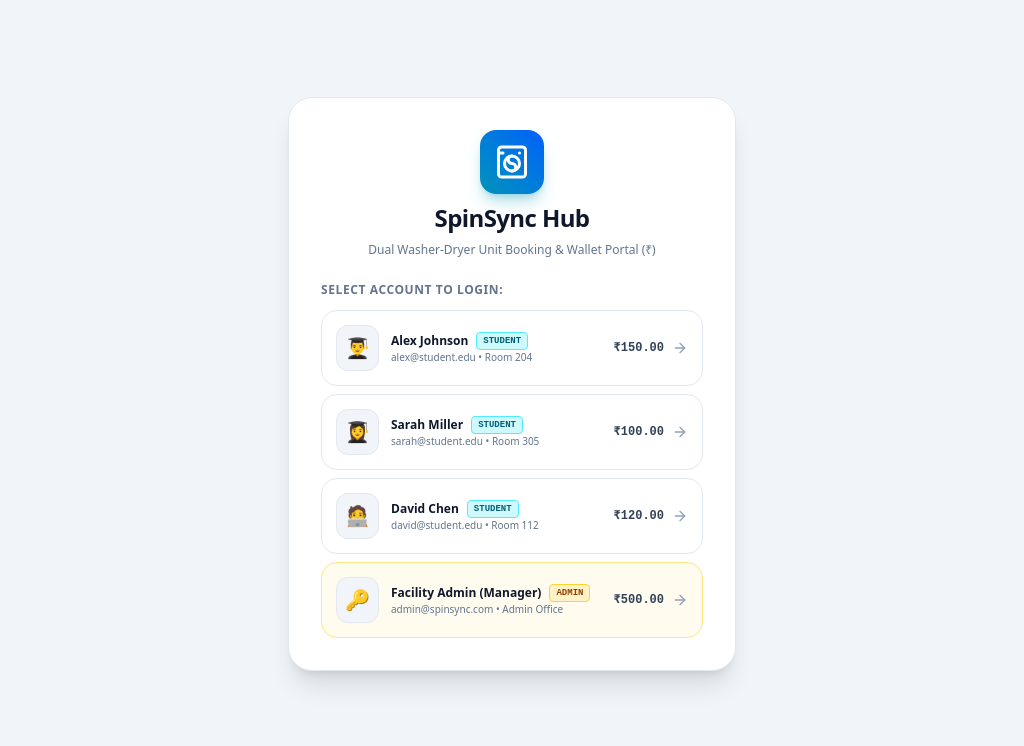
Scenario: SpinSync Application Test Suite (Vitest + React Testing Library) › allows Admin login and renders Admin Master Portal
// Click Facility Admin
Click the text "Facility Admin (Manager)" at [466, 592], box [391,584,541,600]
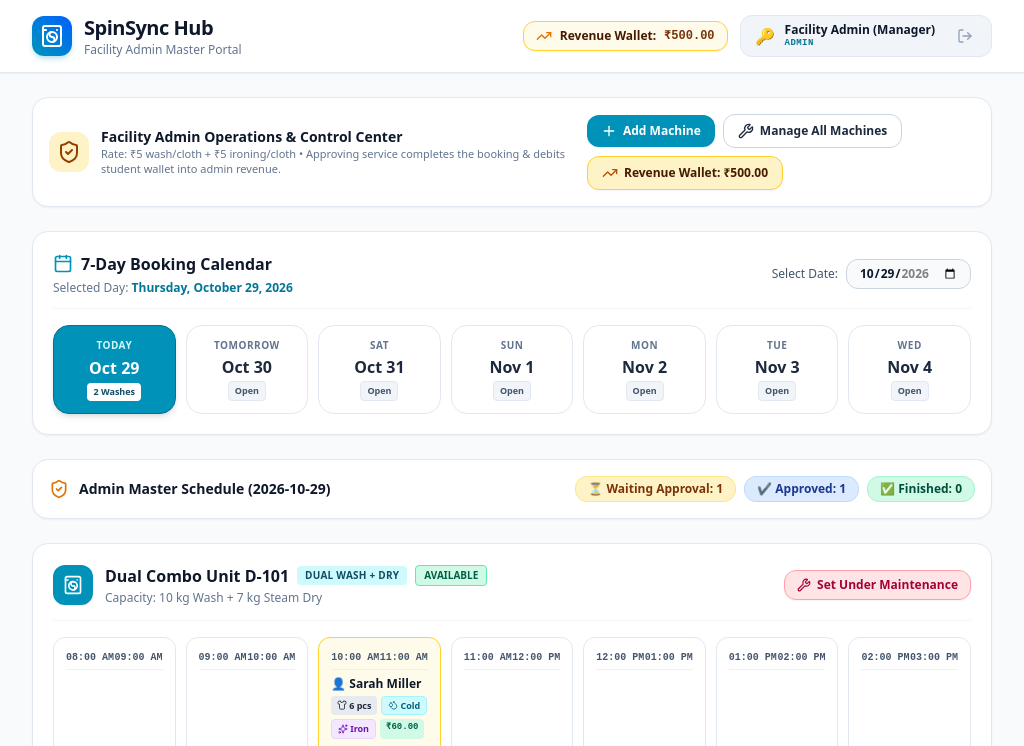
Expected: the text "Facility Admin Master Portal" is shown, [84,42,242,58]
